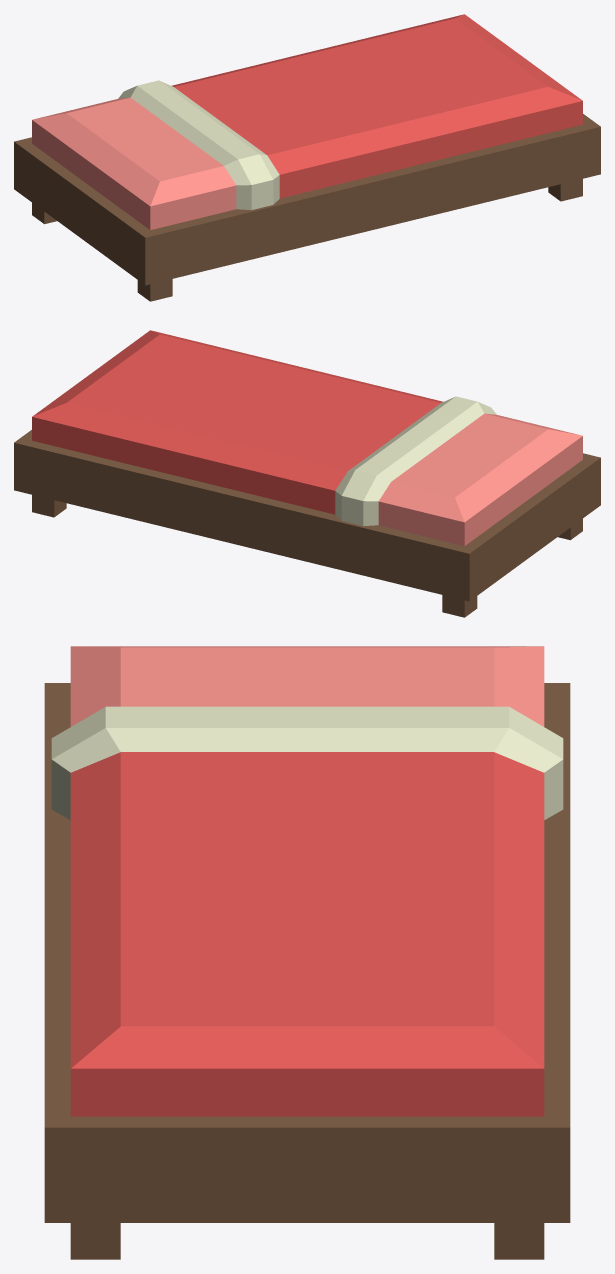
File: BedNoPillow.fbx
The picture shows the model from 3 angles, top to bottom: view 1: azimuth 30°, elevation 25°; view 2: azimuth 150°, elevation 25°; view 3: azimuth 270°, elevation 25°; orthographic projection. The views are drawn at different scales.
Visible parts, largest first — view 1: Cube; view 2: Cube; view 3: Cube.
Boxes of the visible parts, x1,y1,x2,y2 form: Cube: (14,14,600,301); Cube: (14,330,600,617); Cube: (44,646,570,1259).
Size of the model in its own units: 1000 by 236 by 500.
